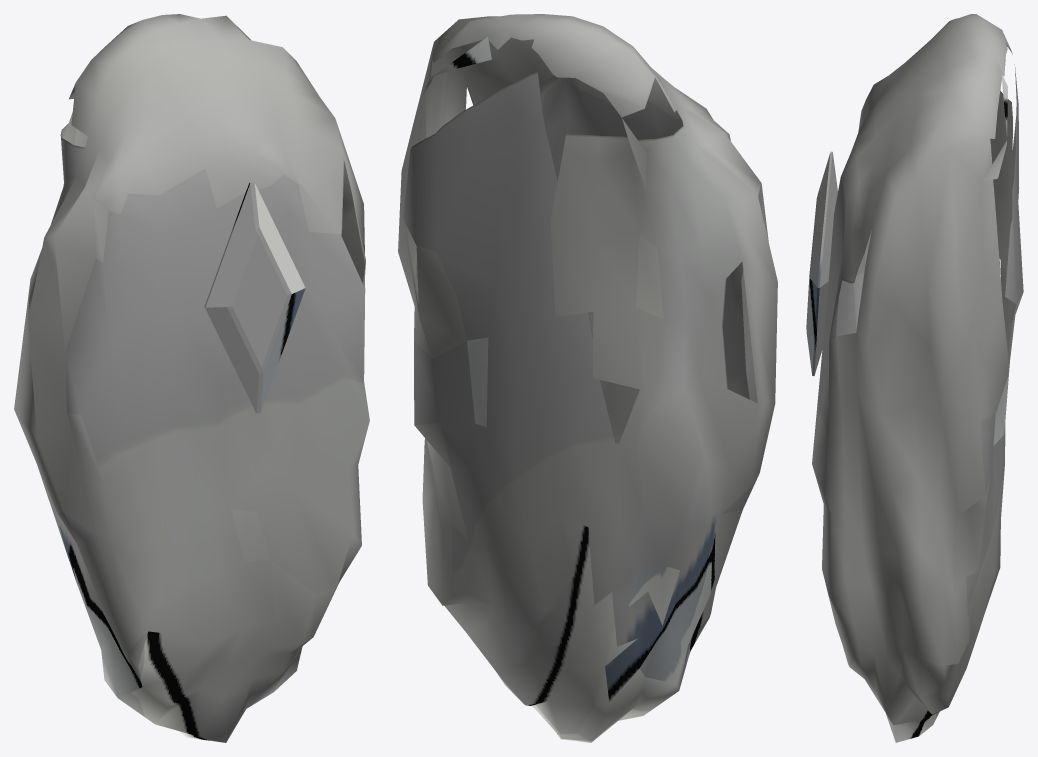
Rendered from Monolith_NoTextures.fbx.
3 renders of one model, left to right at view 1: azimuth 30°, elevation 25°; view 2: azimuth 150°, elevation 25°; view 3: azimuth 270°, elevation 25°, orthographic. The views are drawn at different scales.
Parts seen in each view (by area): view 1: Monolithrock.002; view 2: Monolithrock.002; view 3: Monolithrock.002.
Boxes of the visible parts, x1,y1,x2,y2 form: Monolithrock.002: (14, 14, 369, 742); Monolithrock.002: (398, 14, 777, 742); Monolithrock.002: (806, 14, 1023, 742).
Bounding box in the file's own units: 364 × 745 × 209.
